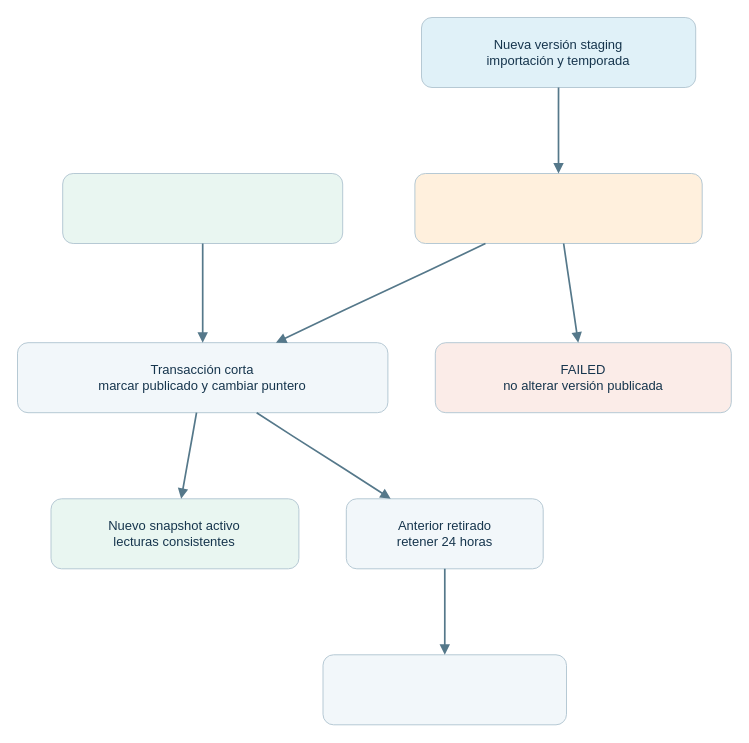
Some shapes in this 749 by 743 pixel diagram are drawn without their labels. Here are the shapes that lost their labels. From the top down, the centre of each, then its label:
At point 202,208: "Snapshot publicado actual lecturas MySQL HTTP 200".
At point 558,208: "Validación completa + temporada todavía vigente".
At point 444,689: "Limpieza segura sin referencias activas".
